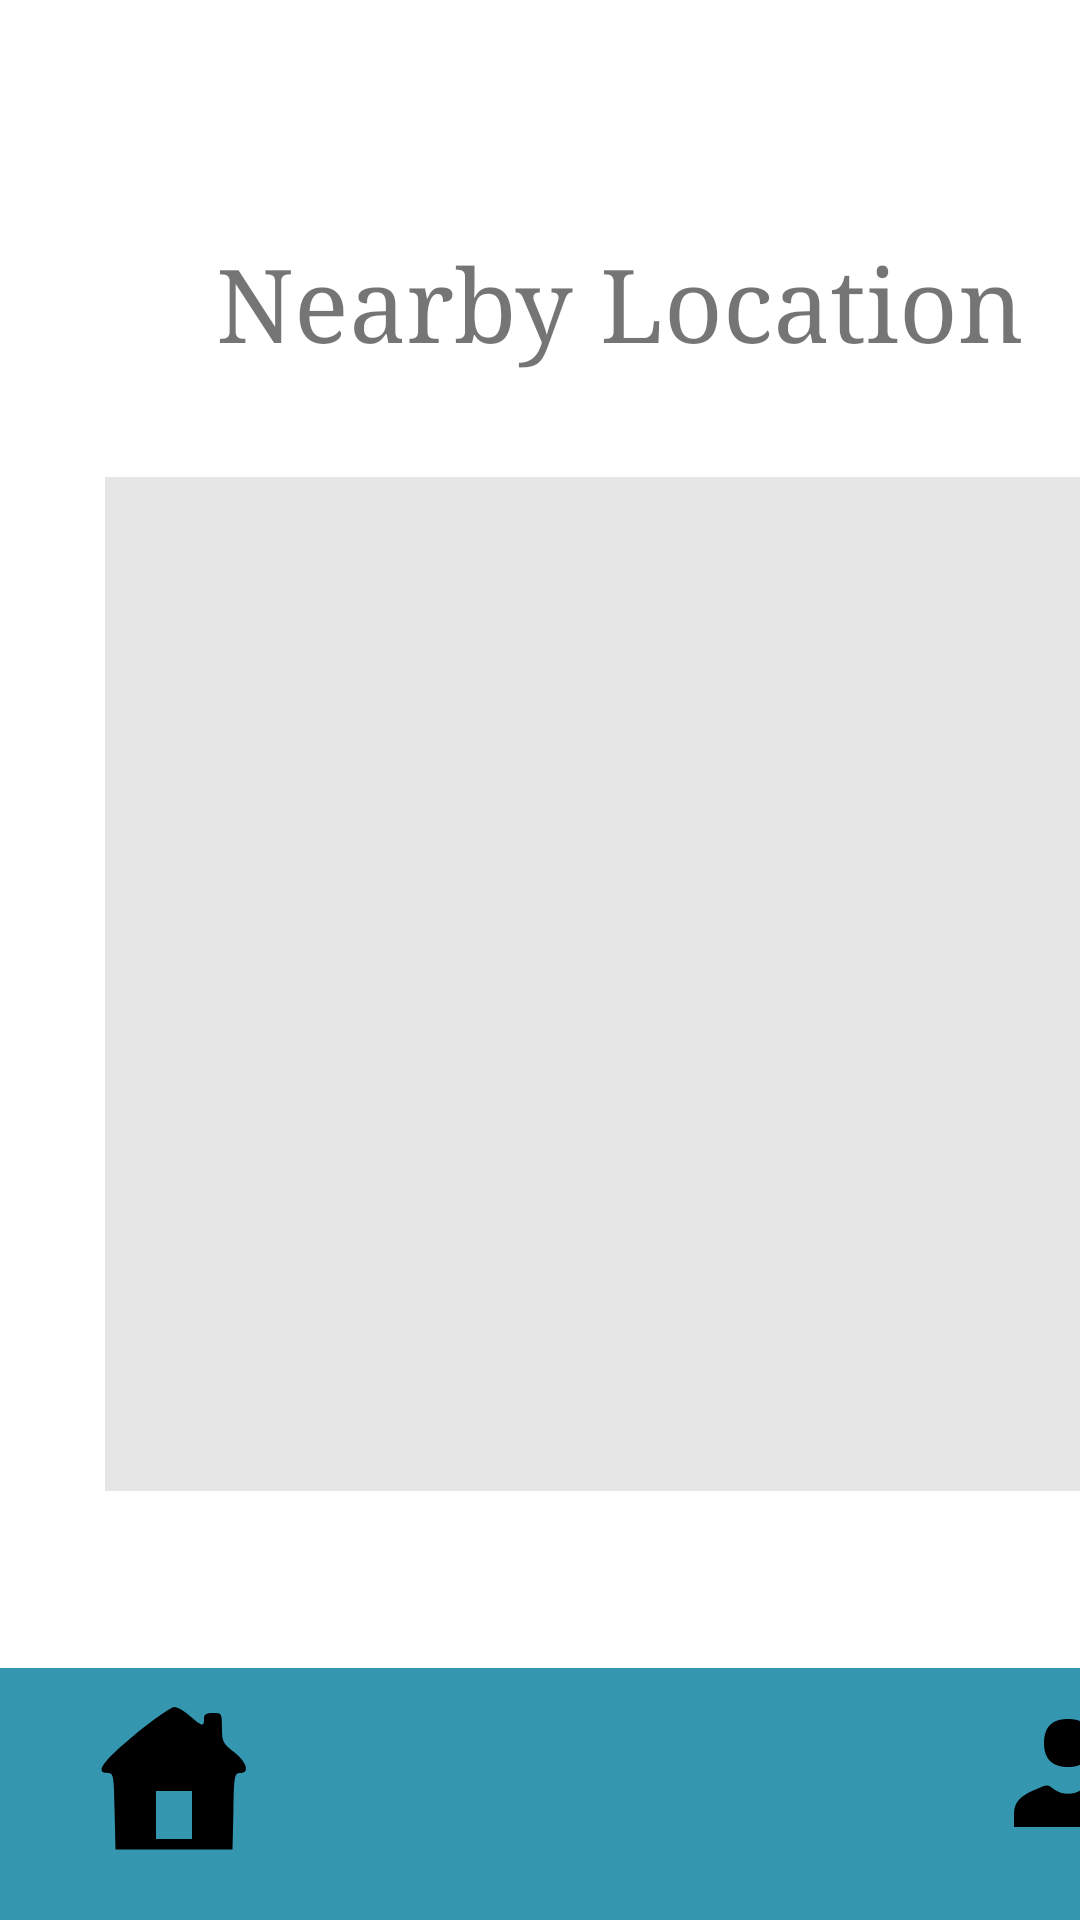

Where to tap for icons on this 1080 x 1920 app screen, as (x=x, y=y):
home page: (x=173, y=1778)
